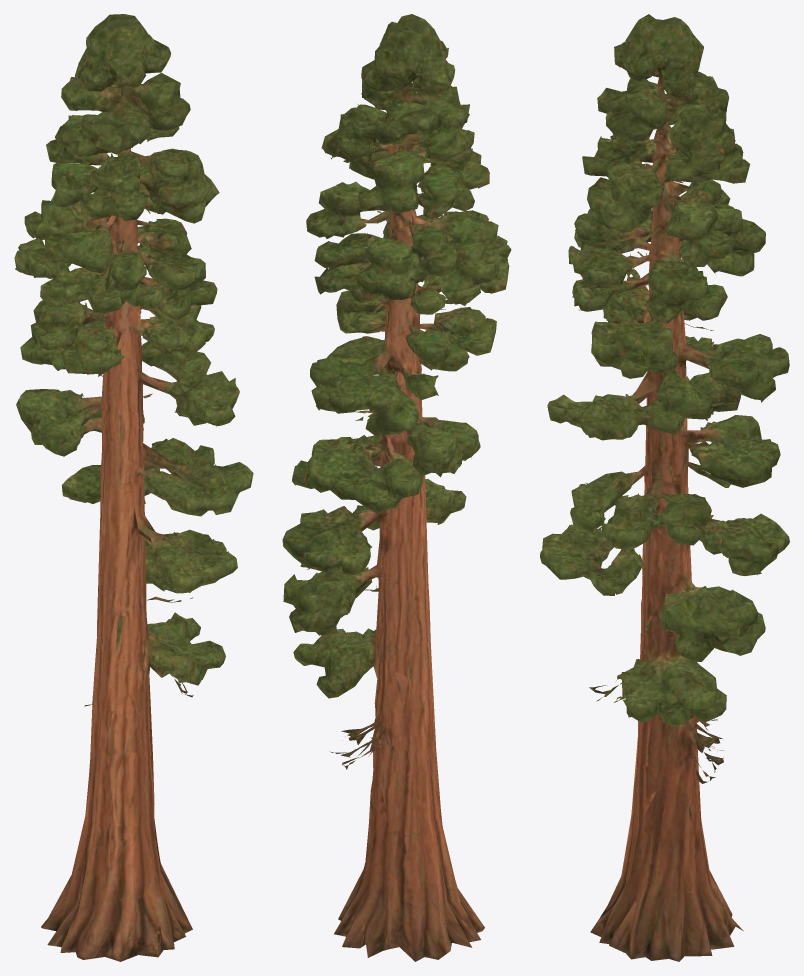
Rendered from redwood-lite.glb.
The picture shows the model from 3 angles, left to right: view 1: azimuth 30°, elevation 25°; view 2: azimuth 150°, elevation 25°; view 3: azimuth 270°, elevation 25°; orthographic projection.
Bounding box in the file's own units: 0.4366 × 1.89 × 0.469.
Materials: 1 (1 with a texture image).
